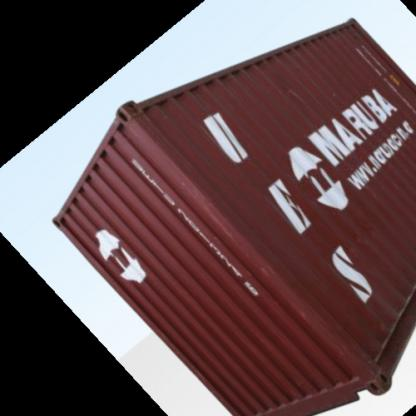Damage: (172, 178, 238, 247), (356, 282, 405, 364), (272, 71, 307, 104), (348, 223, 374, 256), (345, 20, 366, 46)
